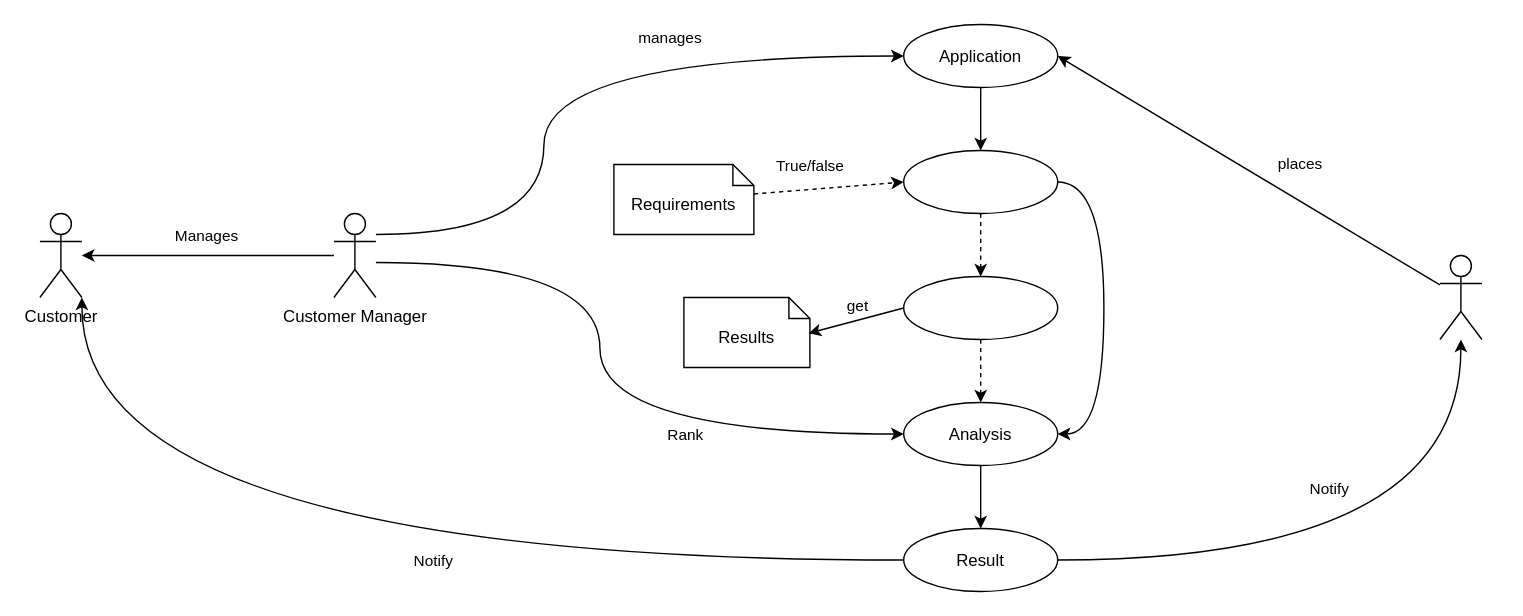
Image size: 1523x616. Some labels were removed from this diagram. Here are the shapes that lost their labels. From the top down, the centre of each, then its label:
the point at 980,181: Screening
the point at 980,307: Interview
the point at 1460,297: Candidate
